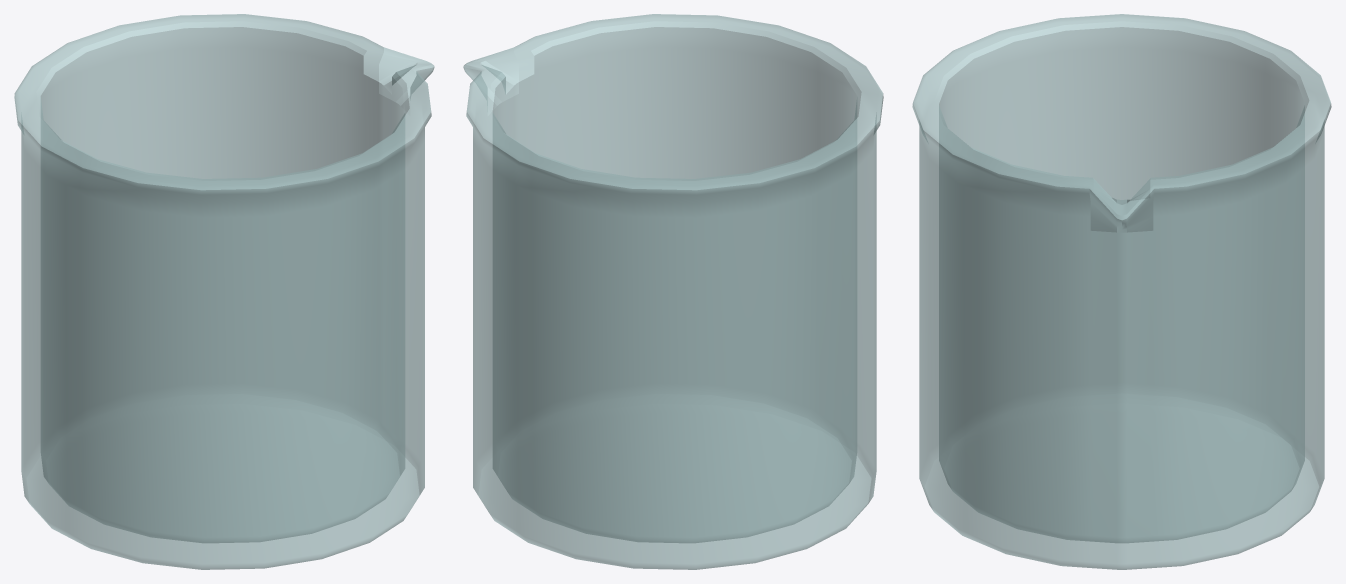
File: beakerGriffin.fbx
The picture shows the model from 3 angles, left to right: view 1: azimuth 30°, elevation 25°; view 2: azimuth 150°, elevation 25°; view 3: azimuth 270°, elevation 25°; orthographic projection.
Visible parts, largest first — view 1: beakerGriffin; view 2: beakerGriffin; view 3: beakerGriffin.
Boxes of the visible parts, box(x1,y1,x2,y2) form: beakerGriffin: box(14, 14, 434, 569); beakerGriffin: box(463, 14, 883, 569); beakerGriffin: box(912, 14, 1331, 569).
Bounding box in the file's own units: 44.69 × 42.42 × 41.35.
